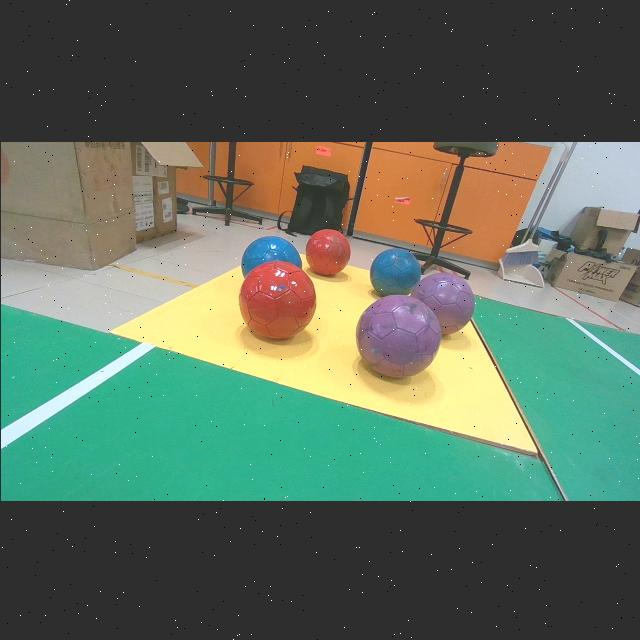B: (369, 247, 421, 294), (240, 236, 301, 275)
P: (355, 294, 441, 376), (411, 271, 474, 333)
R: (238, 260, 315, 338), (305, 227, 349, 273)
